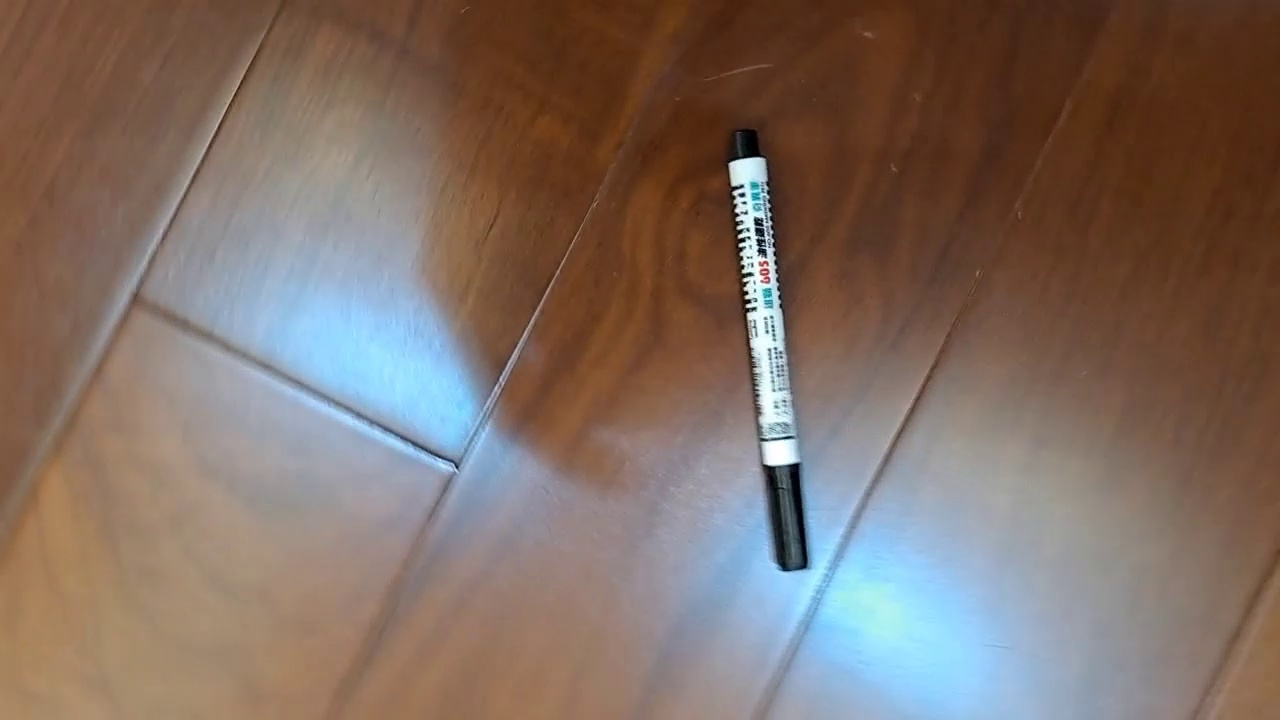pen: (725, 127, 813, 572)
